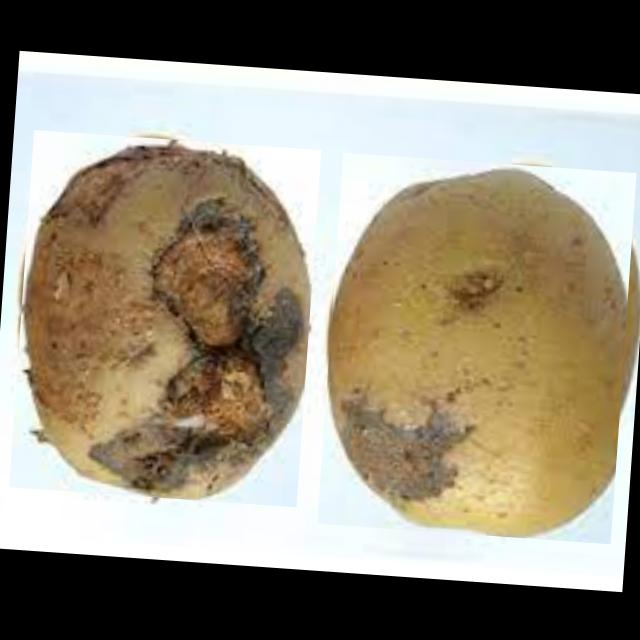Damaged potato: (316, 151, 635, 543), (8, 128, 320, 506)
